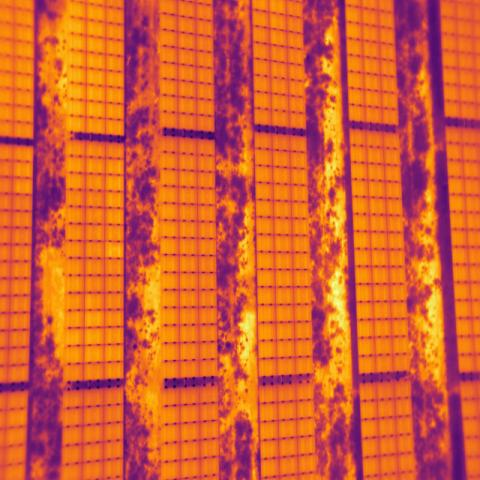fault: (104, 241, 123, 258)
